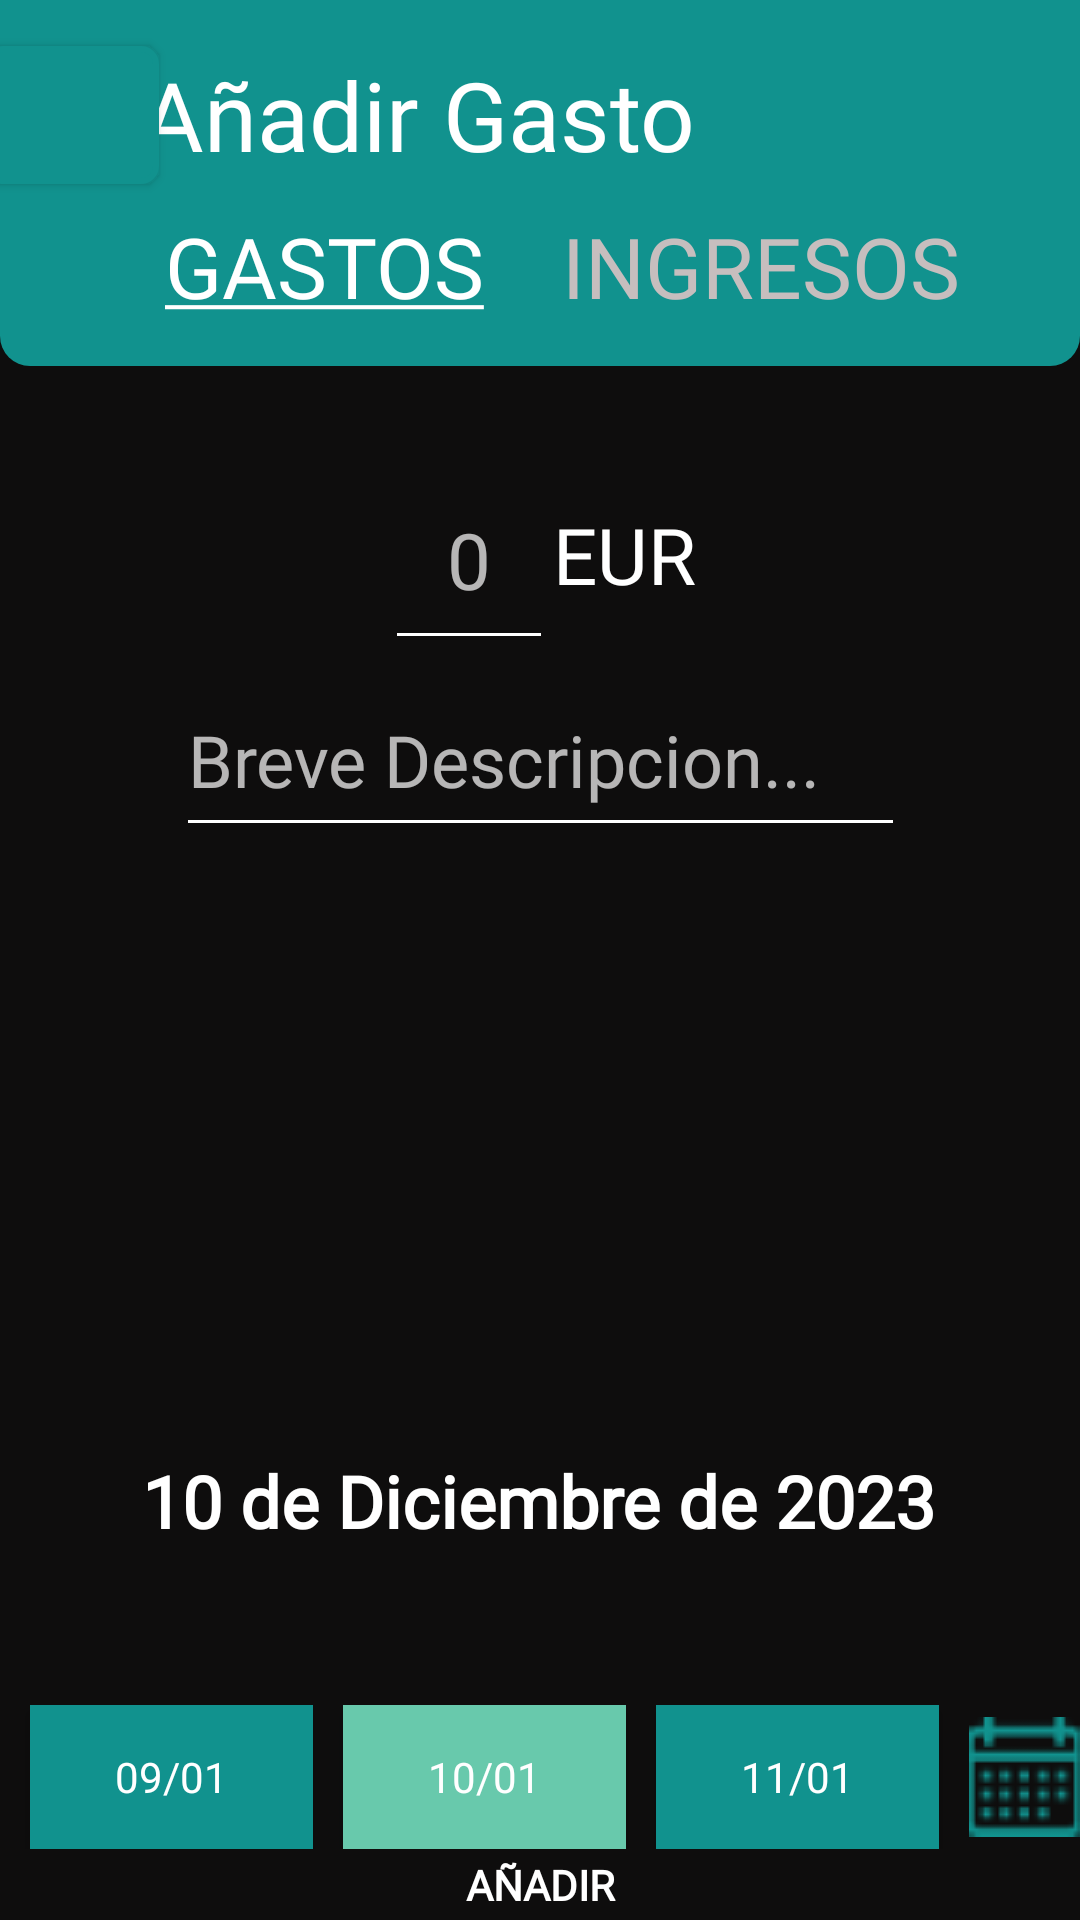

Where icons sit on this 1080w x 1920h app screen, as (x1, y1, x2, y2):
calendar: (969, 1717, 1080, 1837)
